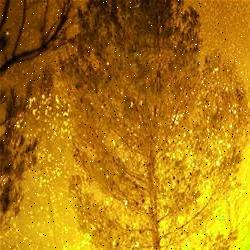fire: (26, 1, 250, 250)
